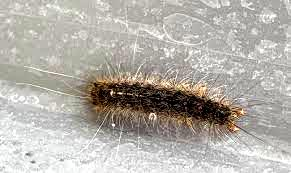Caterpillar: (82, 71, 241, 142)
